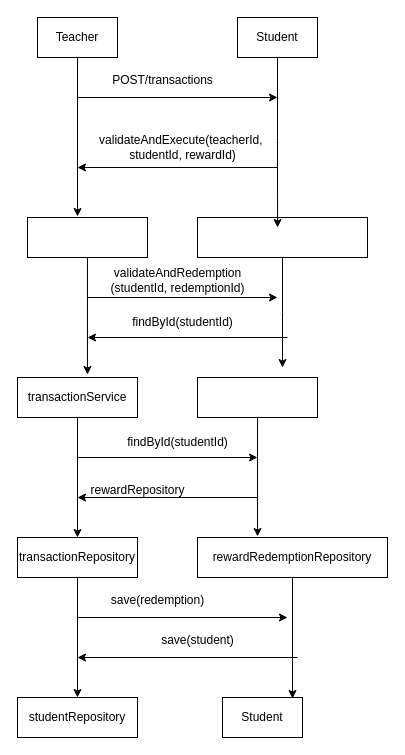
Image size: 405x755. Some labels were removed from this diagram. The centre of each missing label's shape, as x and y in pixels:
RewardRedemptionCOntroller: (282,237)
rewardService: (257,397)
TransactionConttroller: (87,237)
